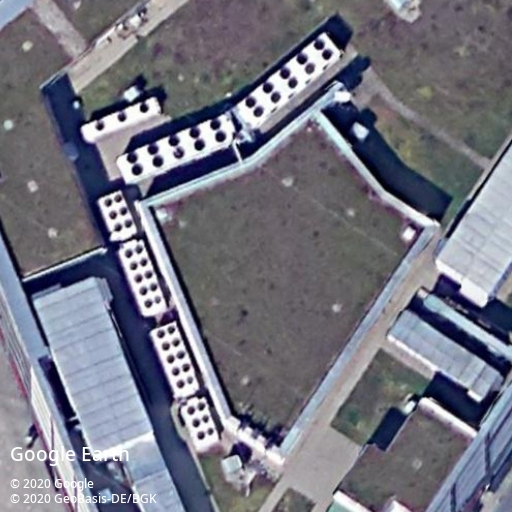Chiller: (237, 31, 341, 129), (115, 114, 236, 184), (118, 238, 169, 317), (149, 321, 201, 397), (82, 95, 161, 143), (96, 190, 139, 241), (180, 396, 221, 447)
